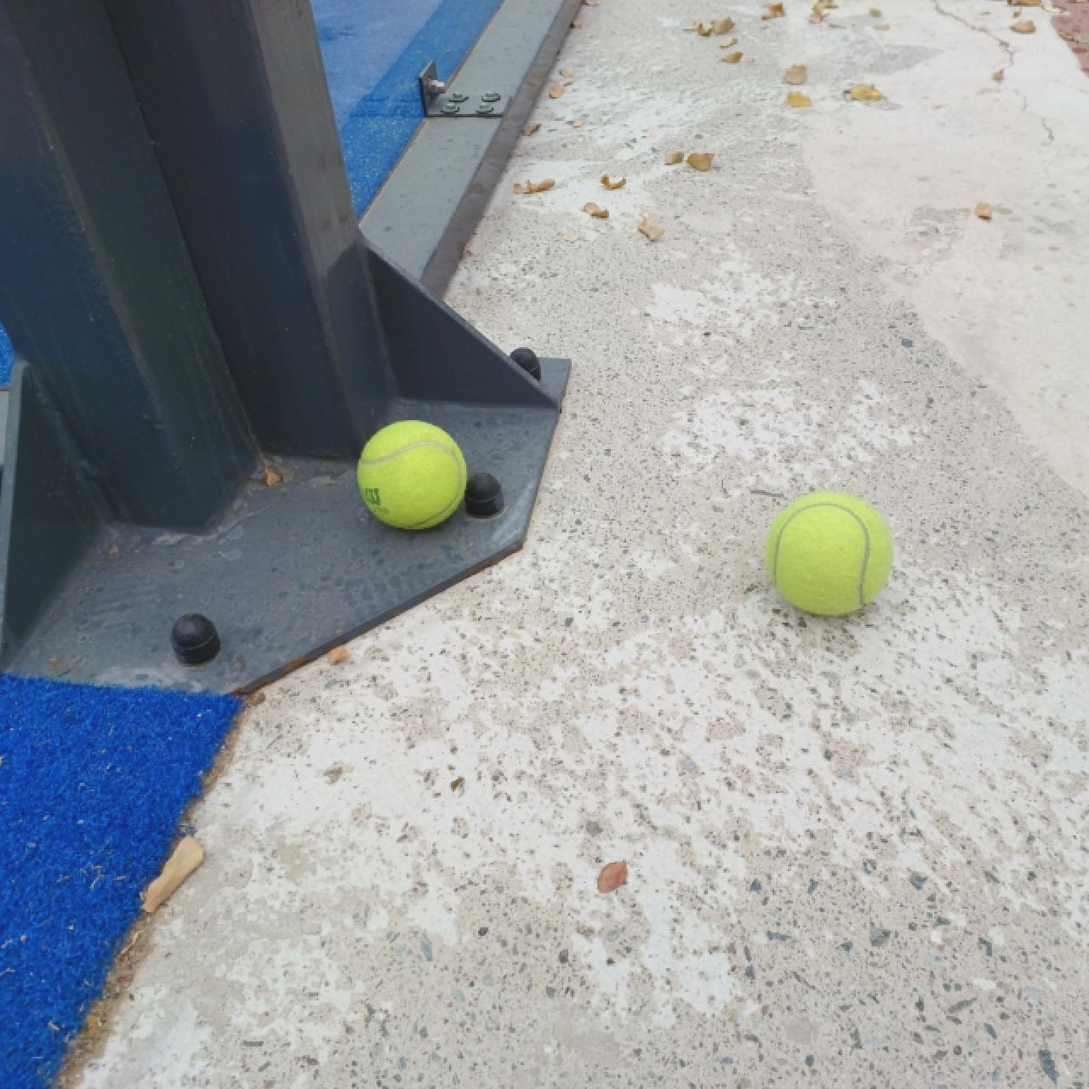tennis-ball: (764, 492, 892, 617), (354, 418, 469, 531)
